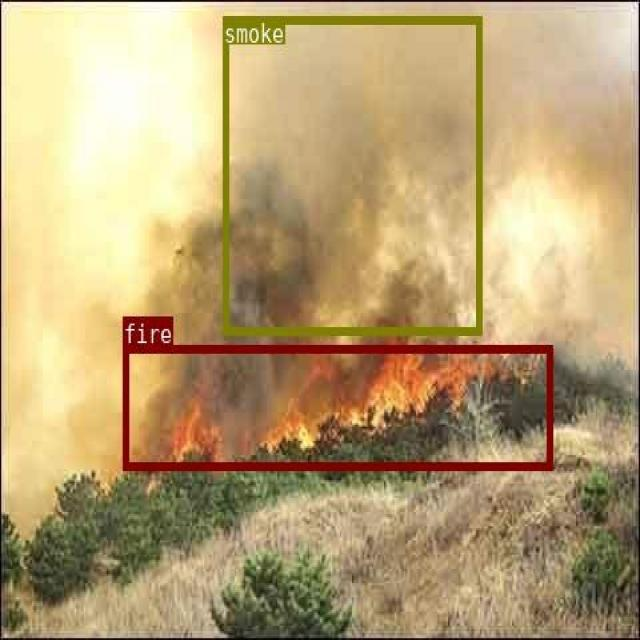fire: (122, 345, 551, 469)
smoke: (222, 15, 481, 334)
